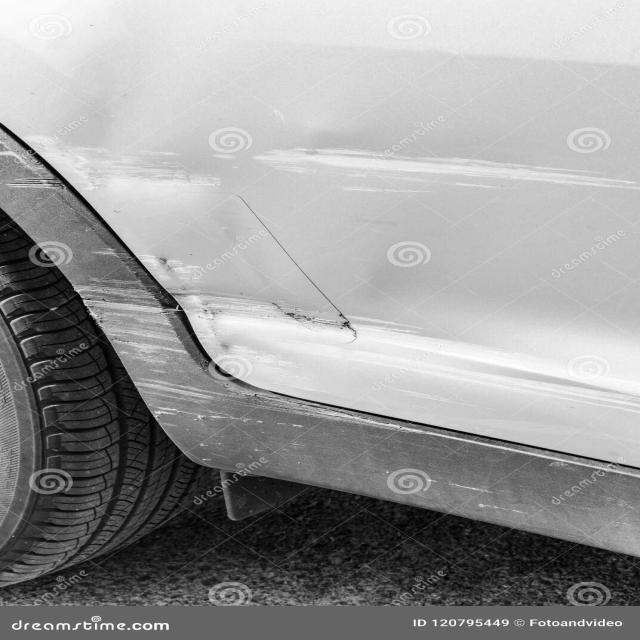dent: (38, 4, 486, 371)
scratch: (0, 123, 640, 468), (421, 477, 497, 495), (472, 500, 532, 516)
